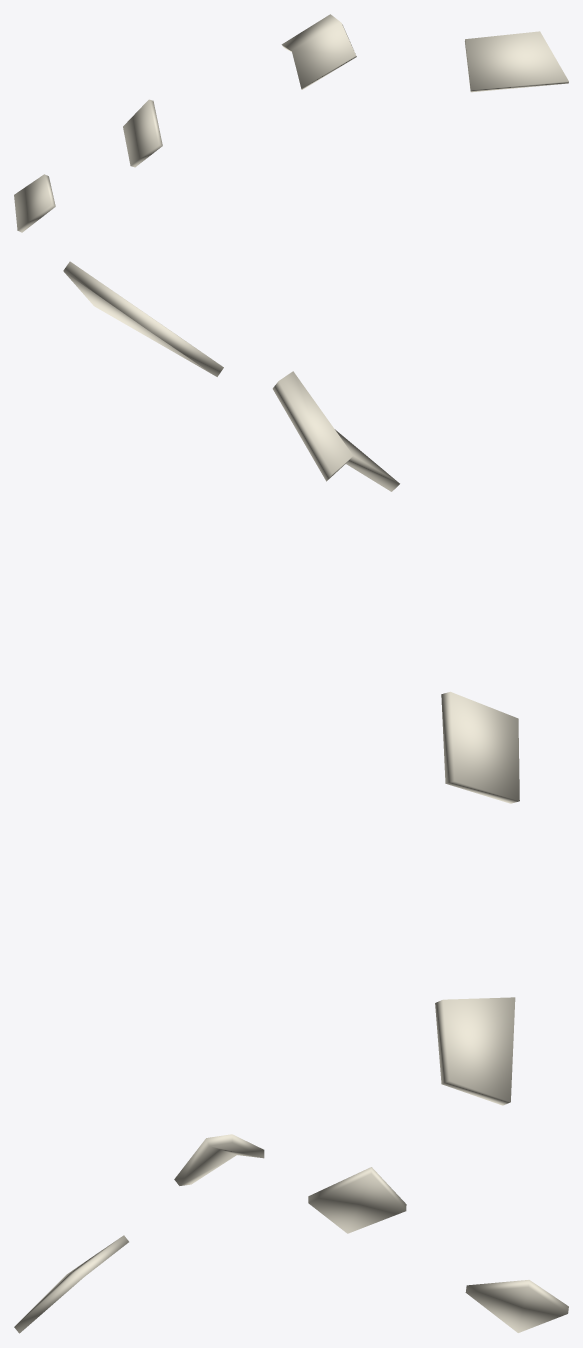
The picture shows the model from 3 angles, top to bottom: view 1: azimuth 30°, elevation 25°; view 2: azimuth 150°, elevation 25°; view 3: azimuth 270°, elevation 25°; orthographic projection. The views are drawn at different scales.
Parts seen in each view (by area): view 1: ZA_814971c0127fc3a7; view 2: ZA_814971c0127fc3a7; view 3: ZA_814971c0127fc3a7.
Boxes of the visible parts, box(x1,y1,x2,y2) form: ZA_814971c0127fc3a7: box(14, 14, 568, 232); ZA_814971c0127fc3a7: box(63, 261, 519, 1105); ZA_814971c0127fc3a7: box(14, 1134, 568, 1333).
Bounding box in the file's own units: 0.0368 × 0.0221 × 0.0319.
